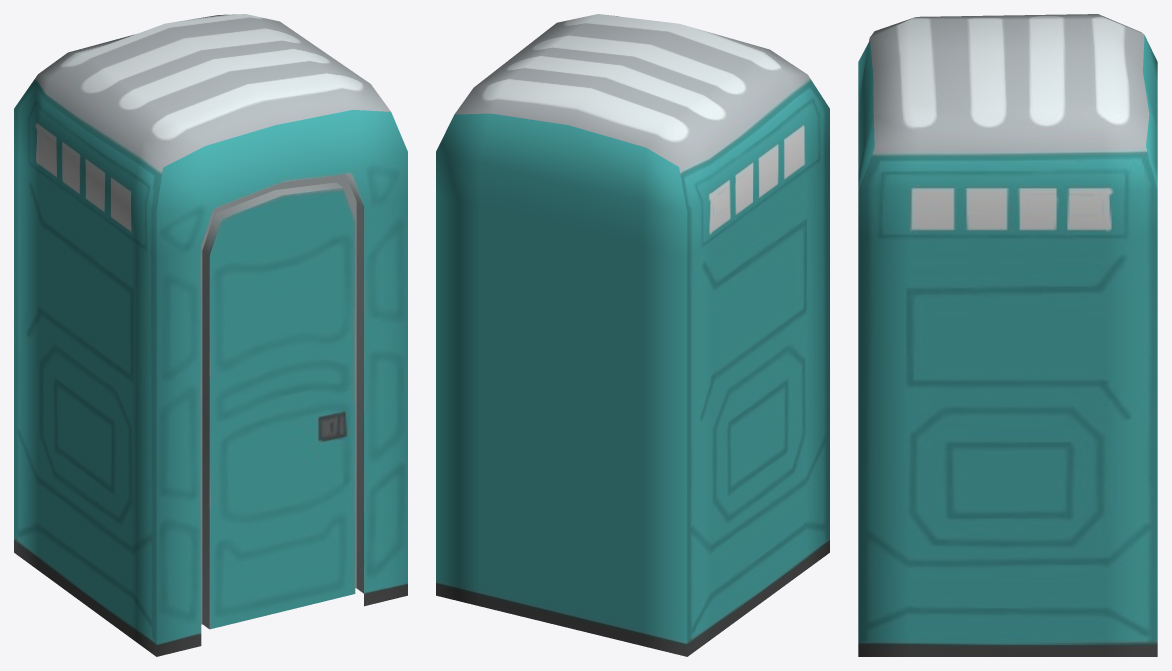
Rendered from BanheiroQuimico.fbx.
3 views of the same model, side by side, from view 1: azimuth 30°, elevation 25°; view 2: azimuth 150°, elevation 25°; view 3: azimuth 270°, elevation 25° (orthographic). The views are drawn at different scales.
Parts seen in each view (by area): view 1: BanheiroQuimico; view 2: BanheiroQuimico; view 3: BanheiroQuimico.
Boxes of the visible parts, box(x1,y1,x2,y2) form: BanheiroQuimico: box(14, 14, 407, 656); BanheiroQuimico: box(436, 14, 829, 656); BanheiroQuimico: box(858, 14, 1157, 656).
Bounding box in the file's own units: 120 × 236 × 118.
